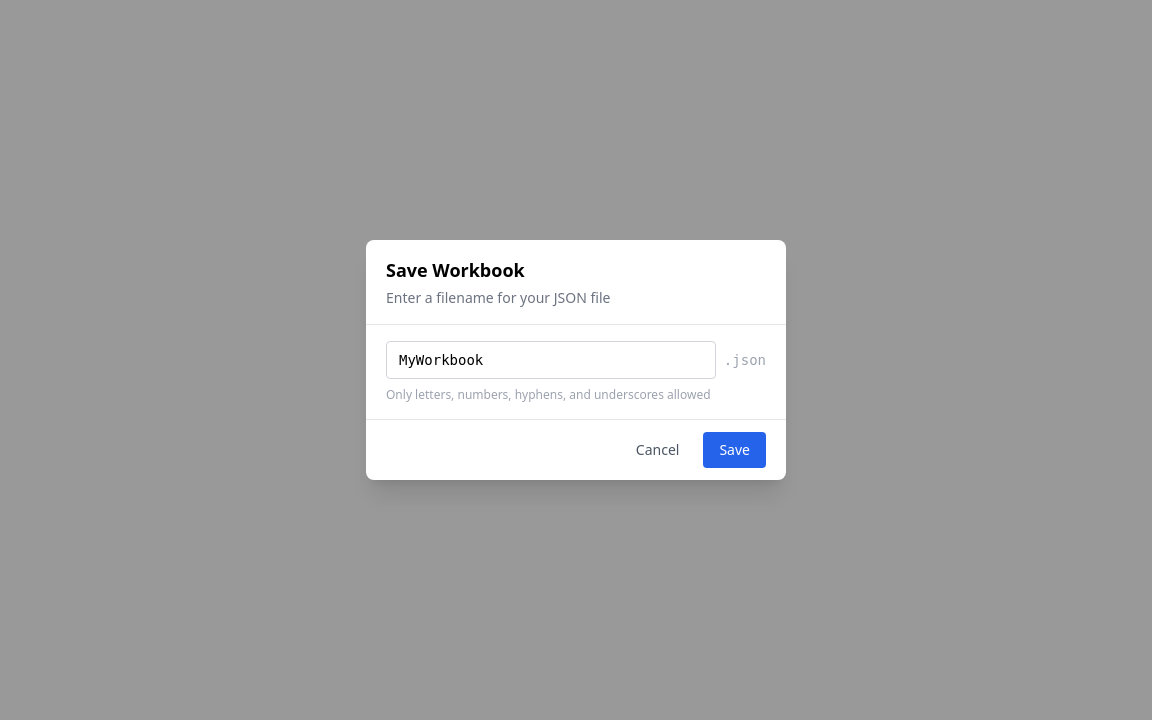
Test: FilenameModal › shows error for empty filename
Clear the field showing "MyWorkbook". click: (551, 360)
box: [386,341,716,379]
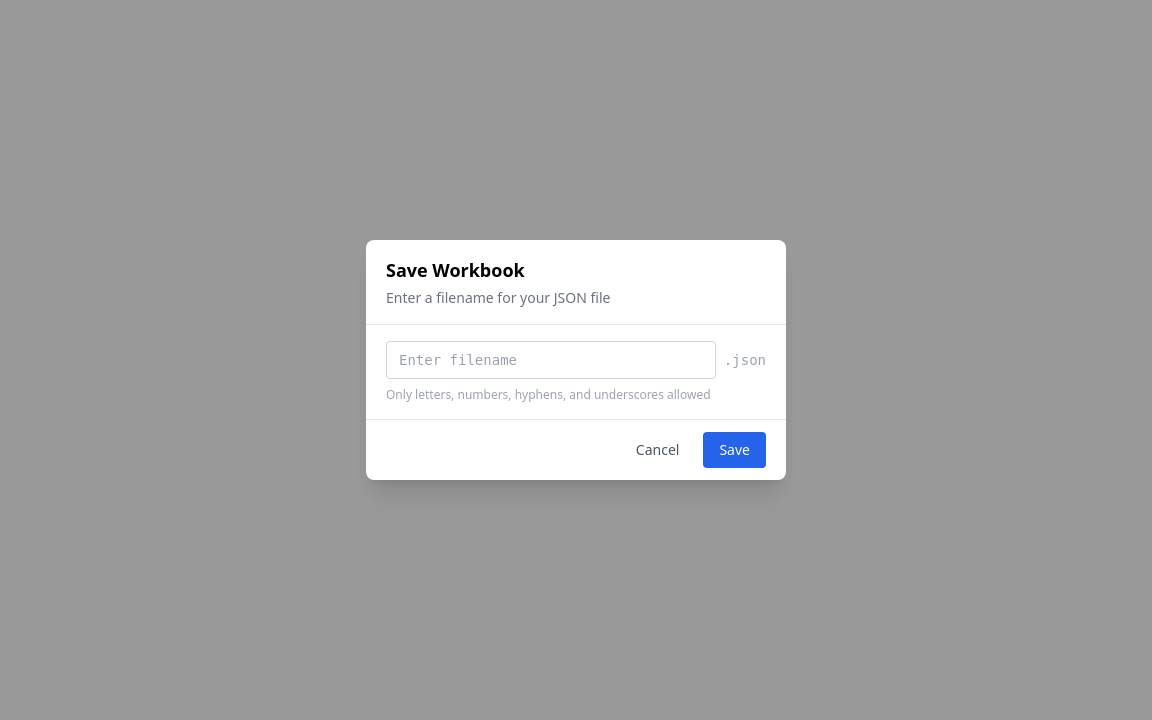
Click the button "Save". click: (735, 450)
box: [703,432,766,468]
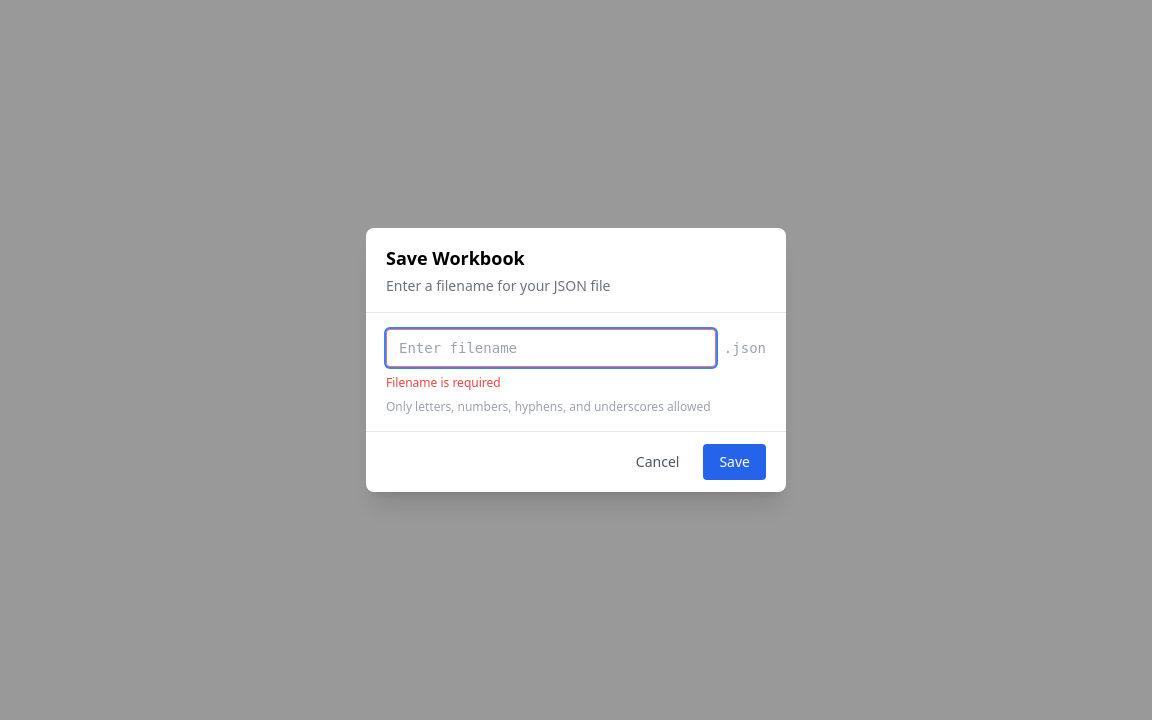
expect the text "Filename is required" is shown: met, box [386,374,501,391]
